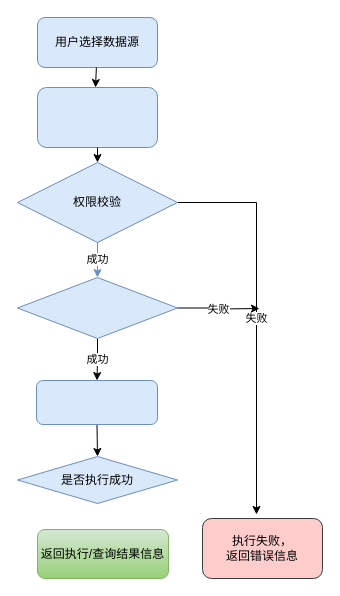
Image size: 340x596. Some labels were removed from this diagram. Here are the shapes that lost their labels. From the top down, the centre of each, then its label:
At (x=97, y=117): "输入一行或者多行SQL语句".
At (x=97, y=307): "语法校验".
At (x=97, y=402): "送入查询引擎执行".
